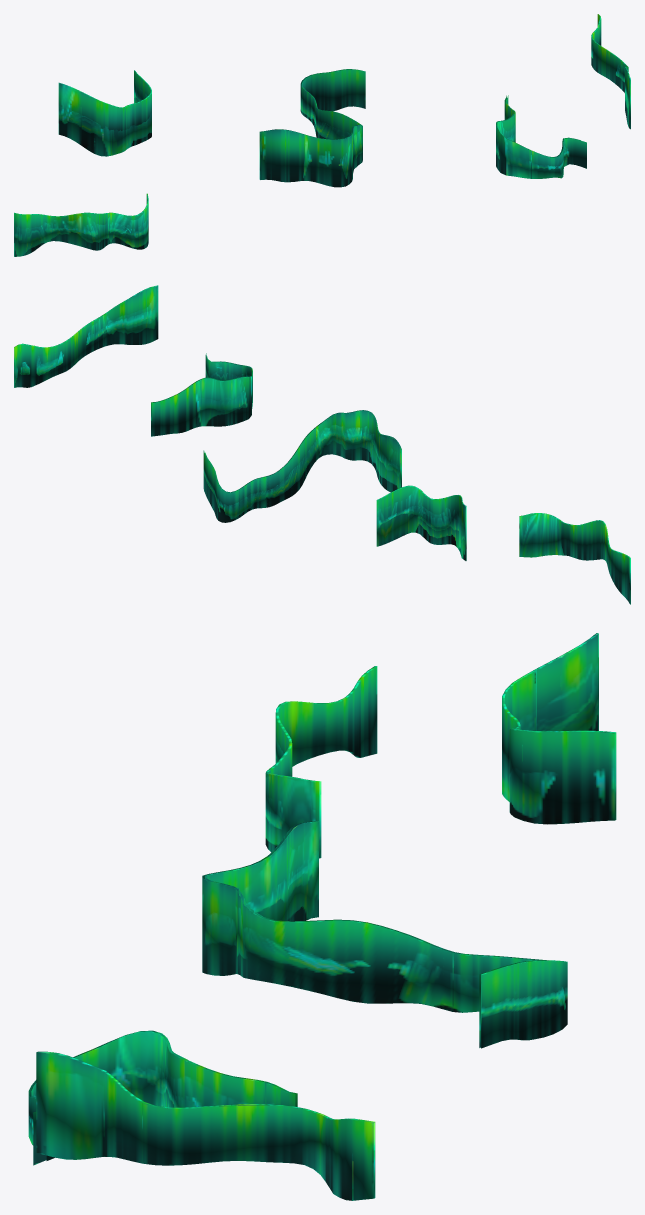
File: AUREOLA.fbx
3 views of the same model, one above another, from view 1: azimuth 30°, elevation 25°; view 2: azimuth 150°, elevation 25°; view 3: azimuth 270°, elevation 25° (orthographic). The views are drawn at different scales.
Visible parts, largest first — view 1: BézierCurve; view 2: BézierCurve; view 3: BézierCurve.
Part boxes in pixels (<box>): BézierCurve: <box>14,14,630,256</box>; BézierCurve: <box>14,285,630,604</box>; BézierCurve: <box>28,633,616,1200</box>.
Bounding box in the file's own units: 12762 × 2318 × 5564.
Materials: 1 (1 with a texture image).
